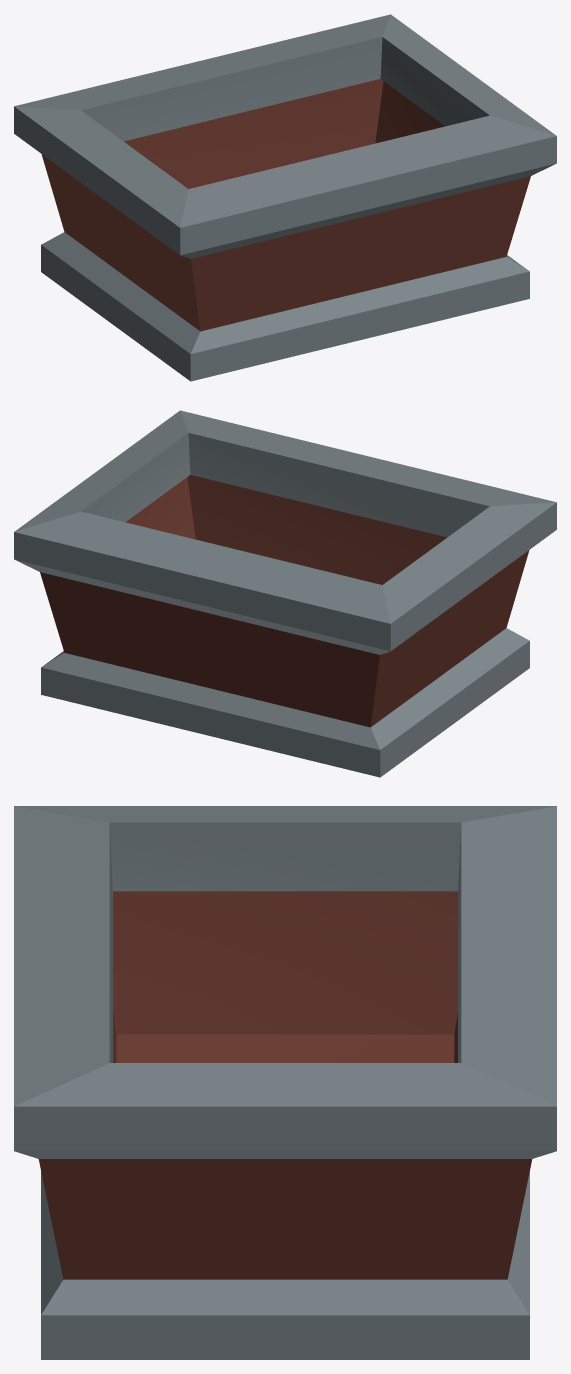
File: chest_common_empty.fbx
3 views of the same model, one above another, from view 1: azimuth 30°, elevation 25°; view 2: azimuth 150°, elevation 25°; view 3: azimuth 270°, elevation 25° (orthographic). The views are drawn at different scales.
Visible parts, largest first — view 1: chest_common; view 2: chest_common; view 3: chest_common.
Part boxes in pixels (<box>): chest_common: <box>14,14,556,381</box>; chest_common: <box>14,410,556,777</box>; chest_common: <box>14,806,556,1359</box>.
Bounding box in the file's own units: 144 × 63 × 110.
